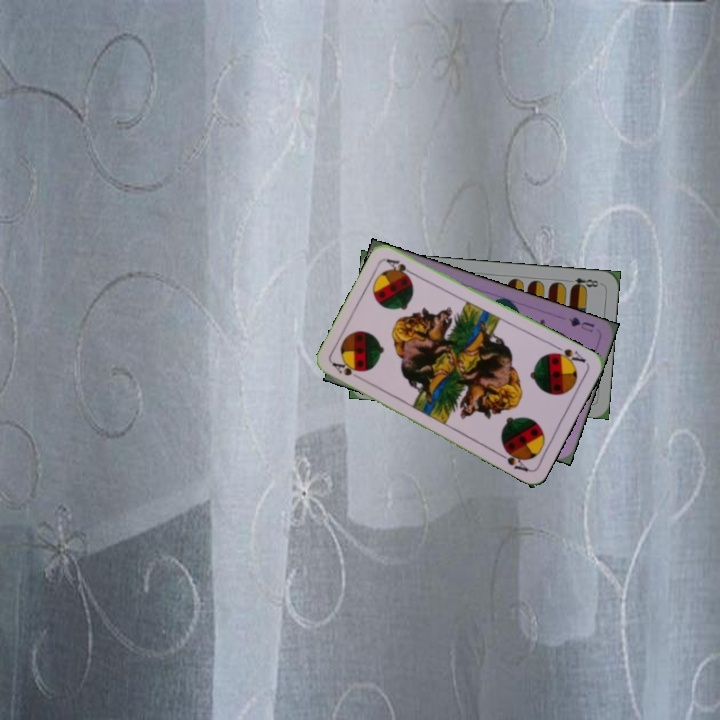E8: (563, 274, 603, 292)
GU: (565, 313, 597, 335)
SA: (549, 341, 589, 367), (328, 358, 366, 384)
